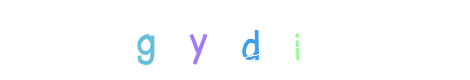D: (184, 0, 264, 80)
G: (155, 0, 235, 80)
I: (195, 0, 275, 80)
Y: (158, 0, 238, 80)
